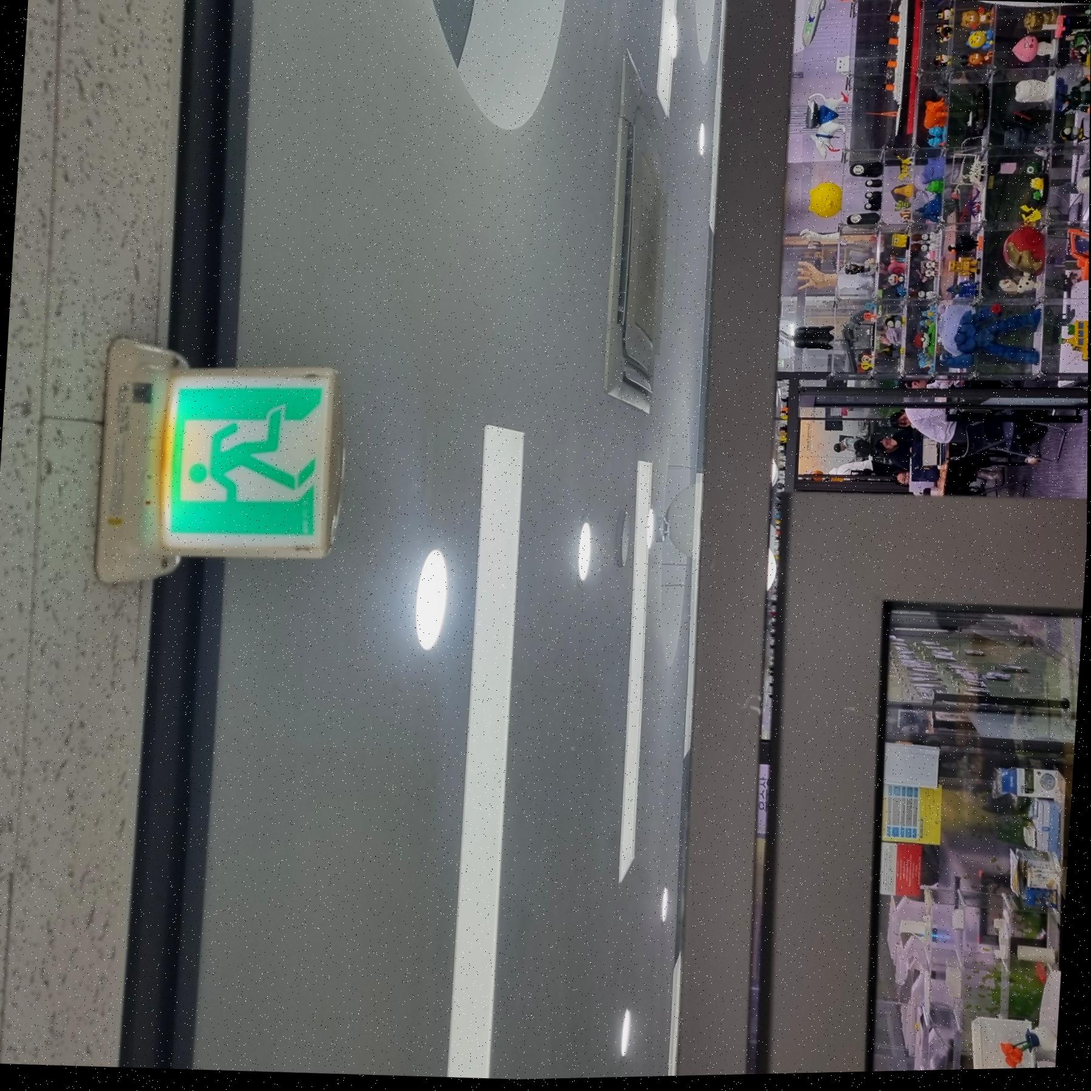emergency_exit: (94, 335, 342, 585), (158, 364, 338, 560)
